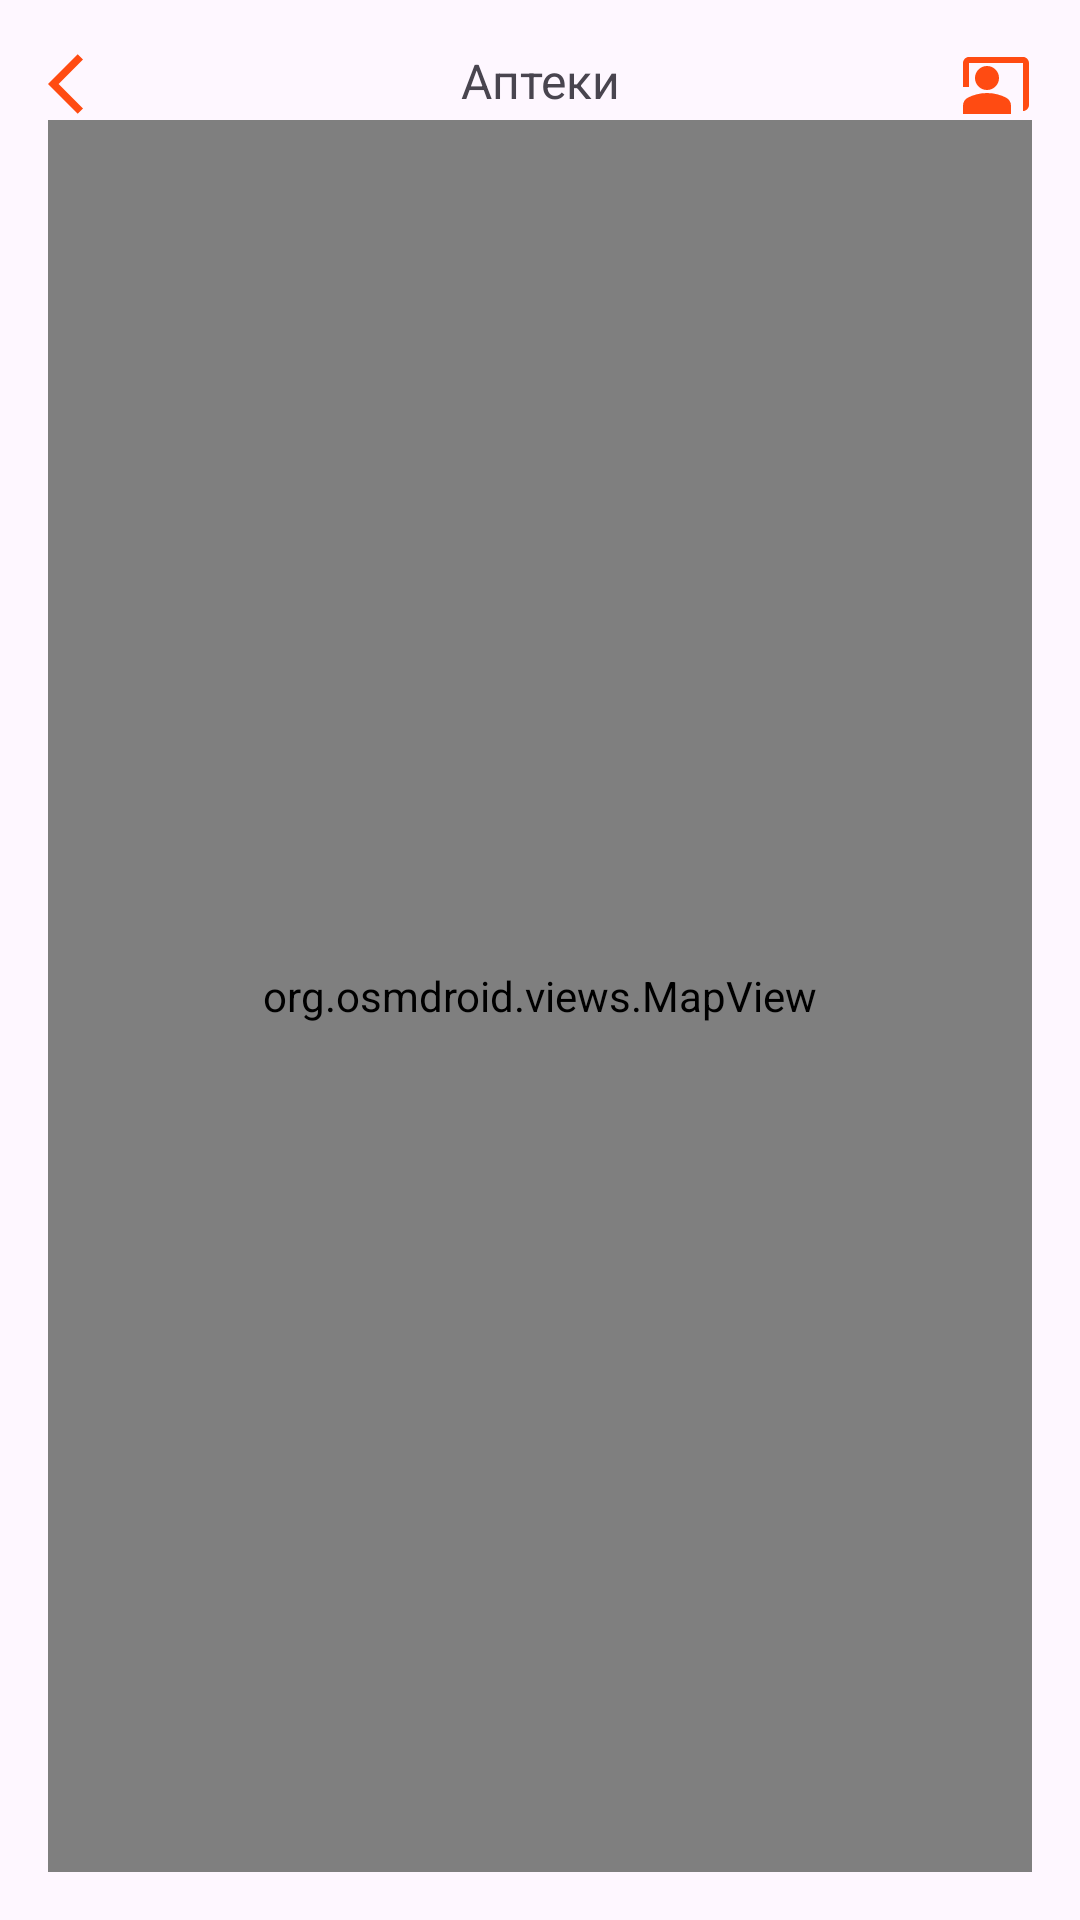

Icon bounding boxes for this 1080x1920 phone screenshot, format bbox(x1, y1, x2, y2):
Назад: bbox(48, 54, 83, 114)
Профиль: bbox(963, 57, 1029, 114)
